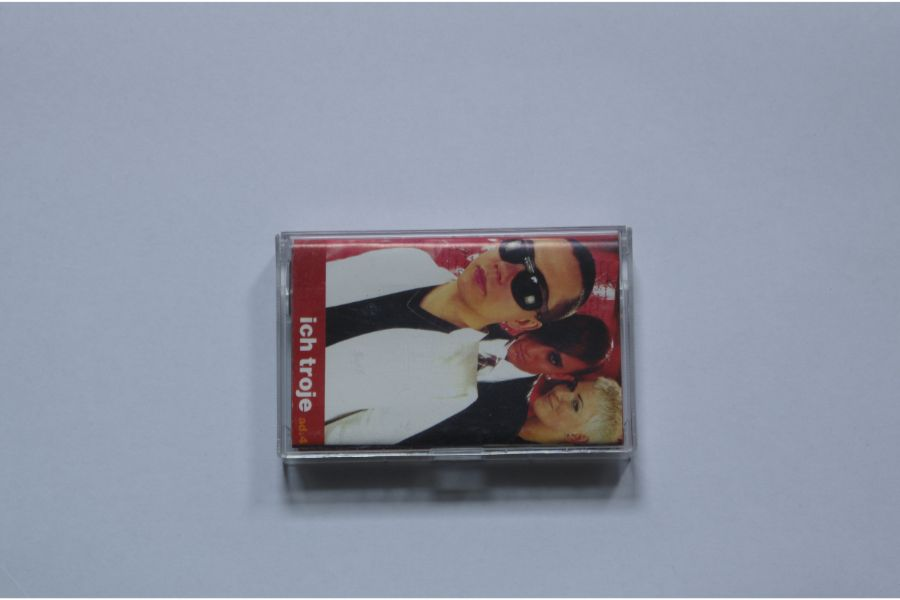album: (274, 222, 640, 463)
